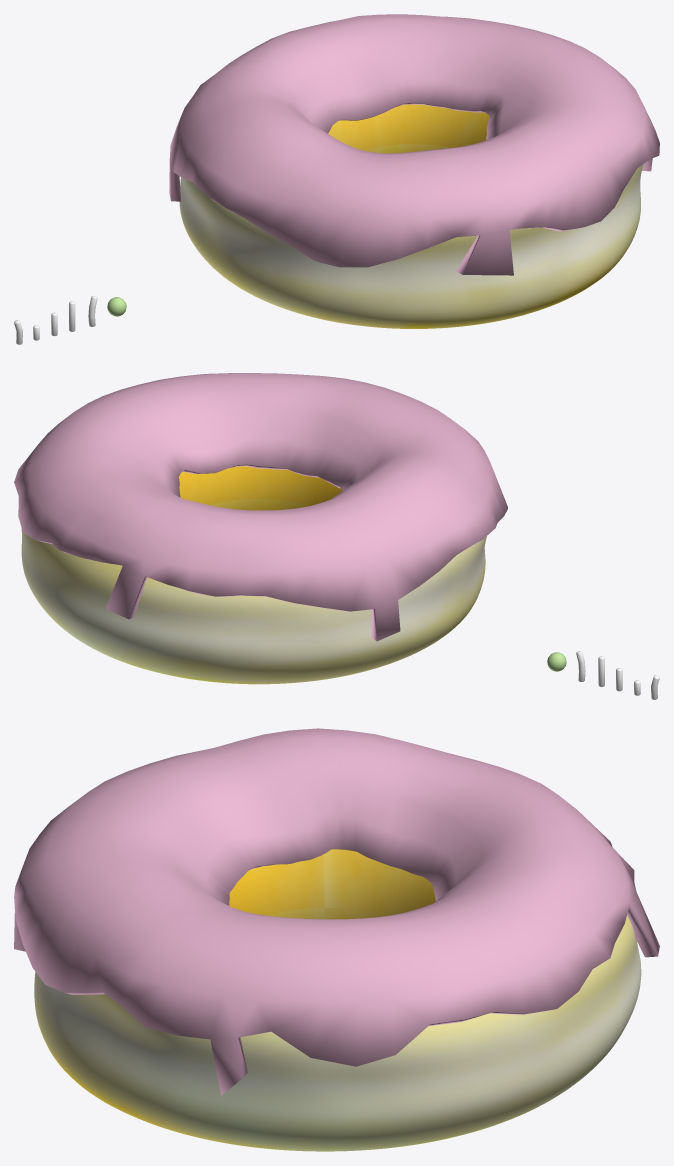
Rendered from Assets.glb.
3 renders of one model, top to bottom at view 1: azimuth 30°, elevation 25°; view 2: azimuth 150°, elevation 25°; view 3: azimuth 270°, elevation 25°, orthographic. The views are drawn at different scales.
Visible parts, largest first — view 1: Icing.001, Donut.001; view 2: Icing.001, Donut.001; view 3: Icing.001, Donut.001.
Part boxes in pixels (<box>): Icing.001: <box>169,14,659,275</box>; Donut.001: <box>179,104,643,328</box>; Icing.001: <box>14,373,507,641</box>; Donut.001: <box>21,466,486,684</box>; Icing.001: <box>14,728,659,1095</box>; Donut.001: <box>34,849,641,1151</box>.
Size of what is drawn, in the model's own units: 0.2157 by 0.0568 by 0.1492.
Materials: 4 (1 with a texture image).
